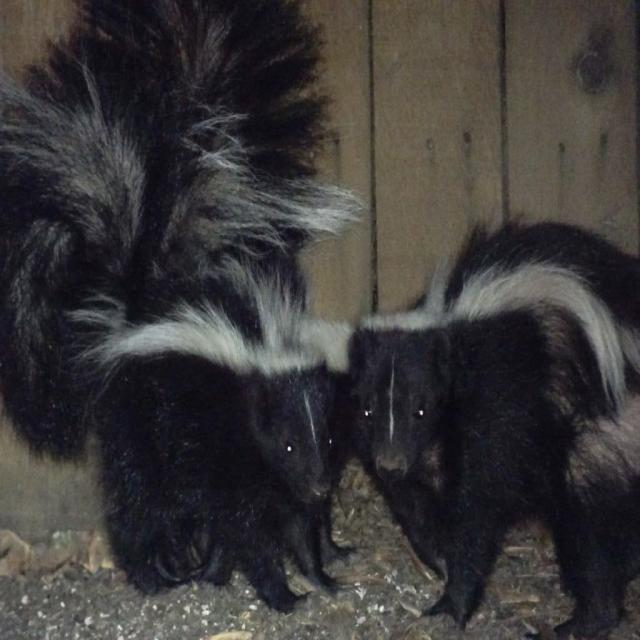Skunk: (0, 0, 347, 590)
